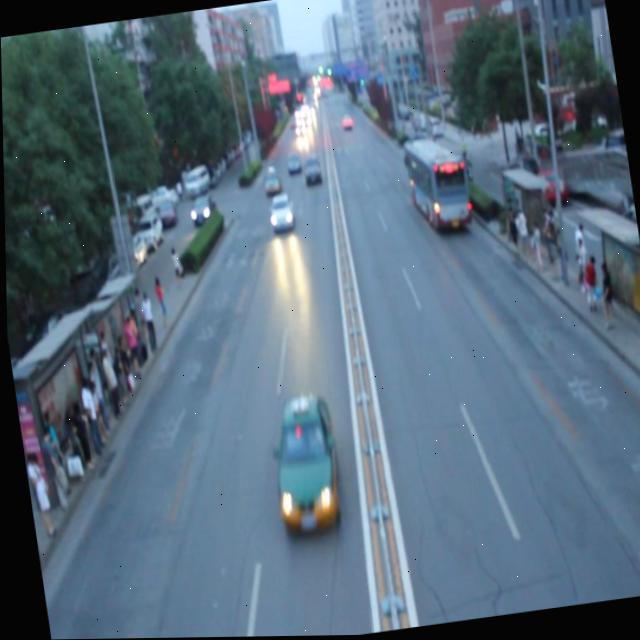car: (264, 395, 342, 532), (266, 195, 293, 229), (260, 167, 280, 194), (300, 159, 320, 183), (284, 156, 301, 174)
van: (398, 133, 470, 235)
